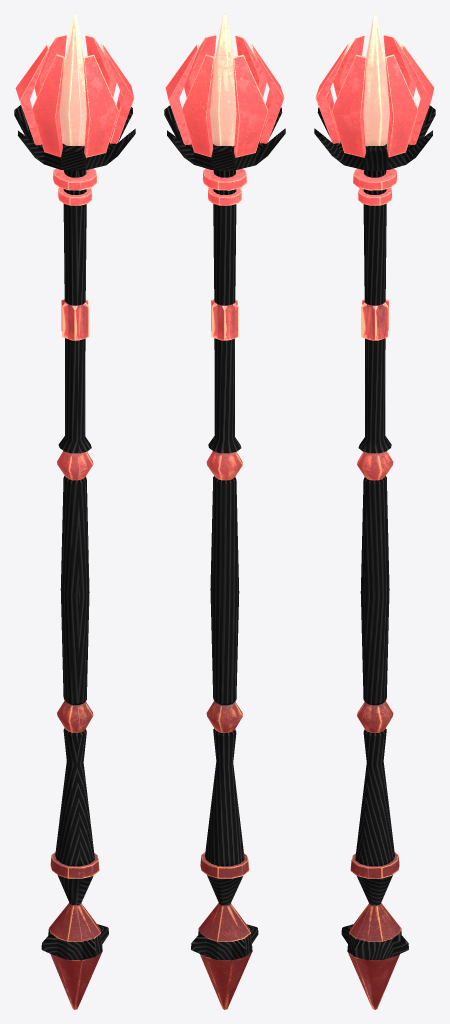
File: M_Sorcerer_Staff.fbx
3 views of the same model, side by side, from view 1: azimuth 30°, elevation 25°; view 2: azimuth 210°, elevation 25°; view 3: azimuth 330°, elevation 25° (orthographic).
Parts seen in each view (by area): view 1: M_SorcererStaff; view 2: M_SorcererStaff; view 3: M_SorcererStaff.
Part boxes in pixels (x1,y1,x2,y2): M_SorcererStaff: (14, 14, 135, 1009); M_SorcererStaff: (164, 14, 285, 1009); M_SorcererStaff: (314, 14, 435, 1009).
Bounding box in the file's own units: 2.43 × 21.14 × 2.28.
